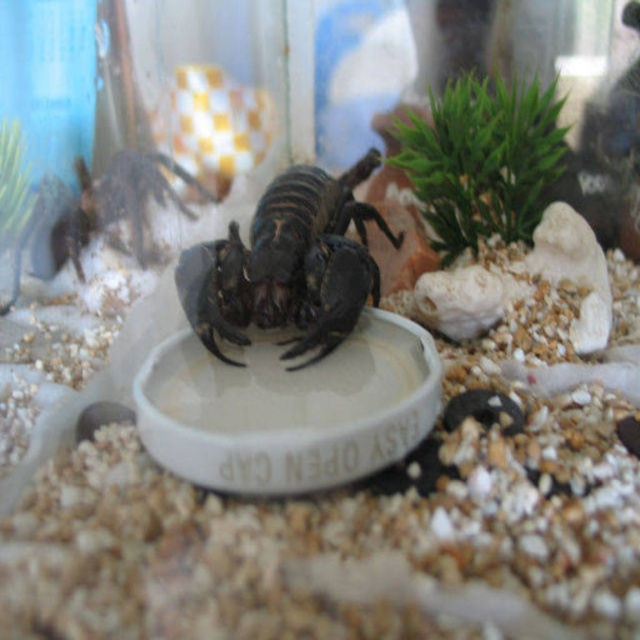Scorpion: (174, 143, 408, 376), (174, 151, 408, 376)
